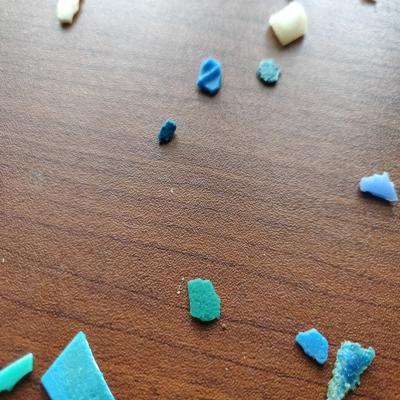plastic: (39, 326, 115, 400), (325, 338, 376, 399), (184, 271, 227, 326), (265, 1, 310, 48), (292, 321, 332, 369), (1, 348, 37, 400), (356, 168, 400, 209), (192, 53, 226, 99), (254, 57, 287, 91), (151, 118, 182, 147), (54, 1, 84, 28)
